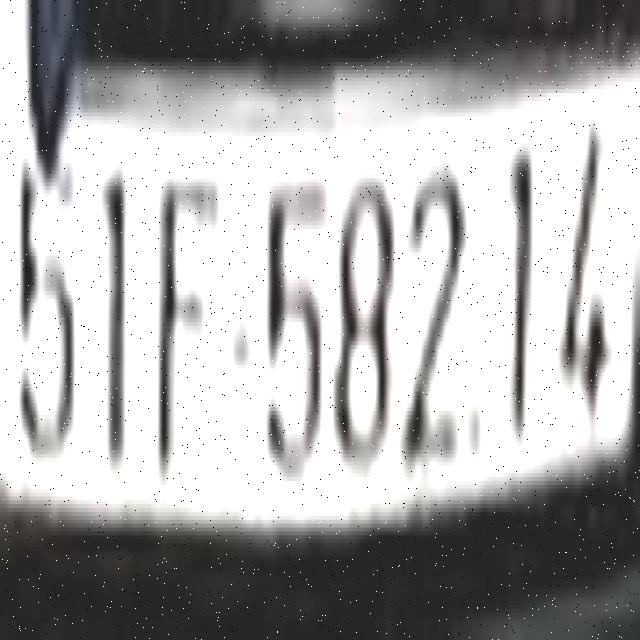1: (498, 124, 538, 454), (95, 151, 131, 473)
2: (402, 150, 465, 468)
4: (558, 101, 613, 454)
5: (15, 134, 80, 467), (264, 153, 328, 487)
8: (334, 155, 391, 477)
F: (157, 151, 220, 473)
